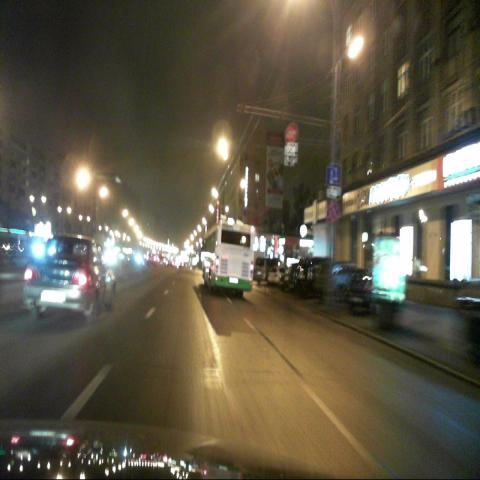3_1: (286, 123, 298, 142)
5_14: (327, 163, 340, 185)
